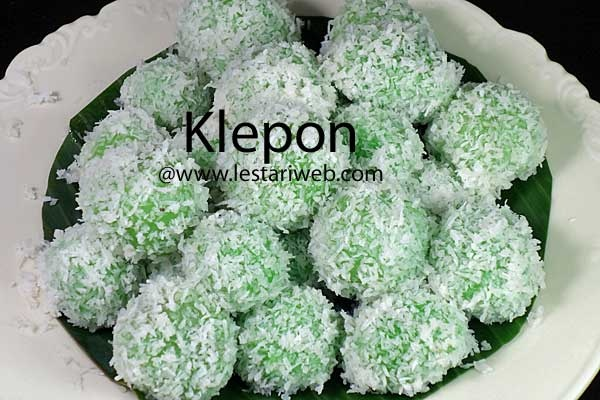klepon: (104, 240, 240, 400), (430, 61, 558, 198), (328, 284, 491, 390), (437, 195, 546, 344), (249, 287, 350, 400), (315, 189, 422, 293)
